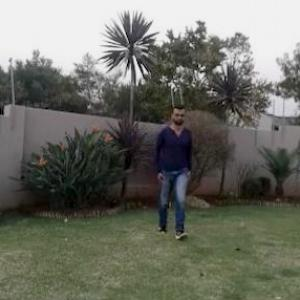follow: (156, 106, 192, 230)
